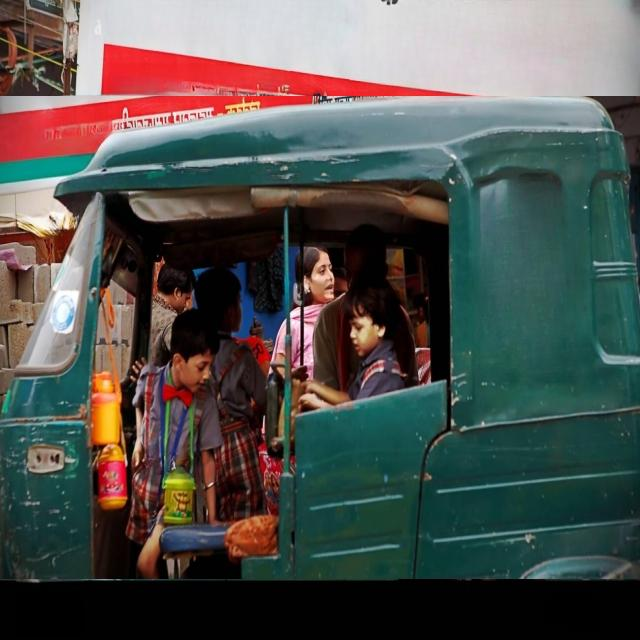autorickshaw: (0, 97, 640, 579)
